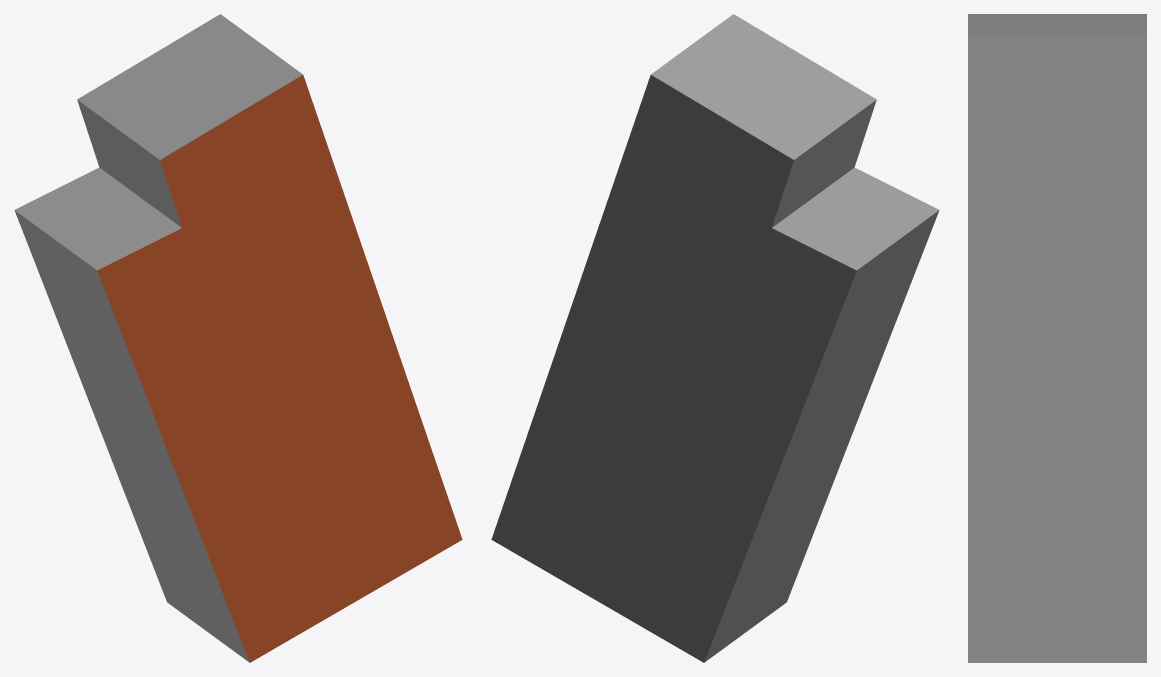
File: construction_2166_assumed_A_Casa_h6m.obj
3 renders of one model, left to right at view 1: azimuth 30°, elevation 25°; view 2: azimuth 150°, elevation 25°; view 3: azimuth 270°, elevation 25°, orthographic. The views are drawn at different scales.
Visible parts, largest first — view 1: construction_2166_assumed_A_Casa; view 2: construction_2166_assumed_A_Casa; view 3: construction_2166_assumed_A_Casa.
Part boxes in pixels (x1=…): construction_2166_assumed_A_Casa: x1=14, y1=14, x2=462, y2=662; construction_2166_assumed_A_Casa: x1=491, y1=14, x2=939, y2=662; construction_2166_assumed_A_Casa: x1=968, y1=14, x2=1146, y2=662.
Size of the model in its own units: 15.28 by 22.99 by 6.
